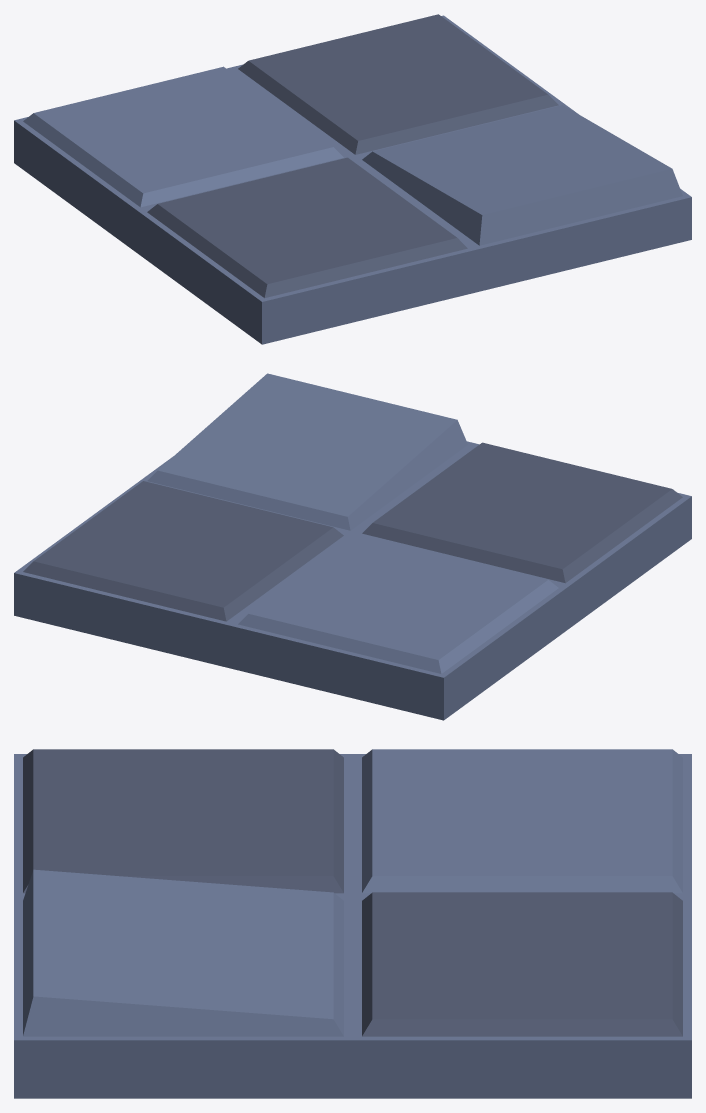
Rendered from ground2.fbx.
3 views of the same model, one above another, from view 1: azimuth 30°, elevation 25°; view 2: azimuth 150°, elevation 25°; view 3: azimuth 270°, elevation 25° (orthographic). The views are drawn at different scales.
Visible parts, largest first — view 1: floor.002; view 2: floor.002; view 3: floor.002.
Part boxes in pixels (bbox=[...]): floor.002: bbox=[14, 14, 691, 344]; floor.002: bbox=[14, 373, 691, 720]; floor.002: bbox=[14, 749, 691, 1098].
Bounding box in the file's own units: 211 × 32.25 × 211.
